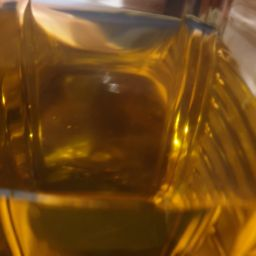Oil: (7, 10, 246, 243)
